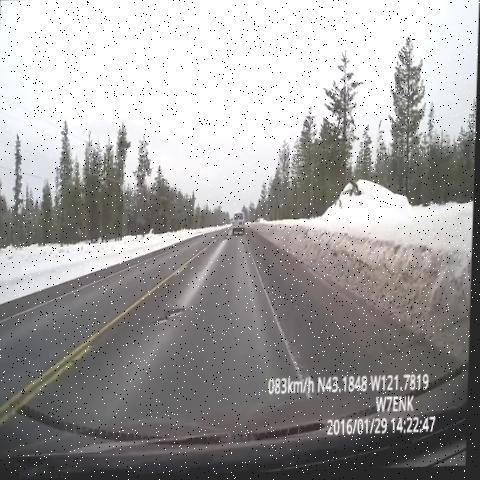pothole: (150, 299, 196, 349), (240, 244, 255, 267), (219, 233, 237, 248)
